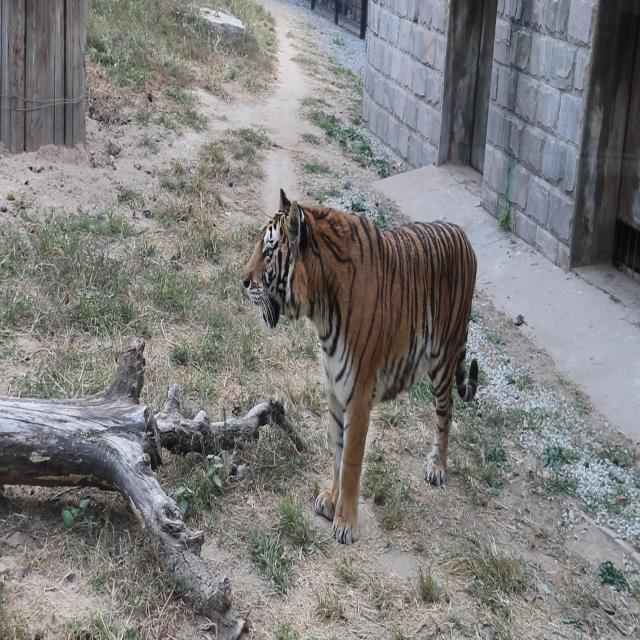Tiger: (244, 163, 499, 524)
